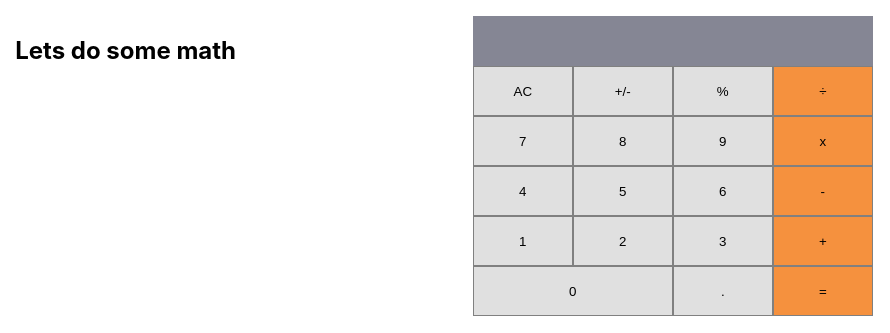
Test case: should get 6  for (1+2)*2
Click the button "1".
click(523, 241)  # box [473,216,573,266]
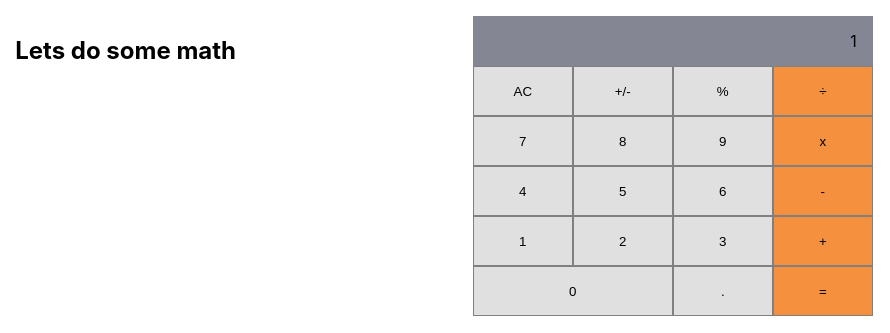
Click the button "+".
click(823, 241)  # box [773,216,873,266]
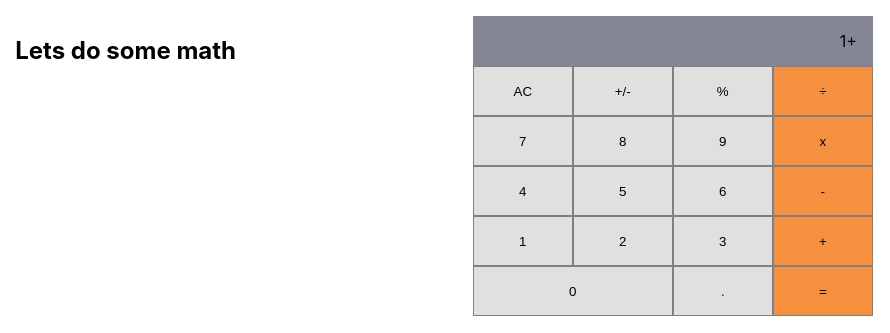
Click the button "2".
click(623, 241)  # box [573,216,673,266]
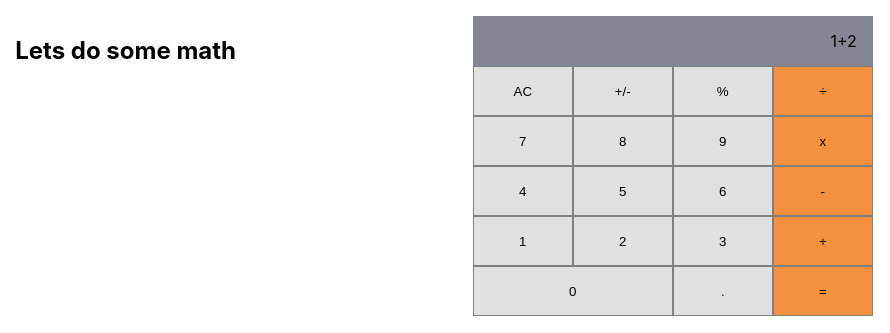
Click the button "x".
click(823, 141)  # box [773,116,873,166]
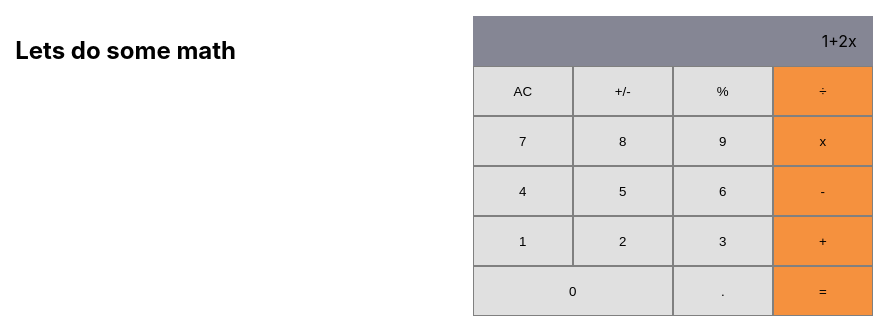
Click the button "2".
click(623, 241)  # box [573,216,673,266]
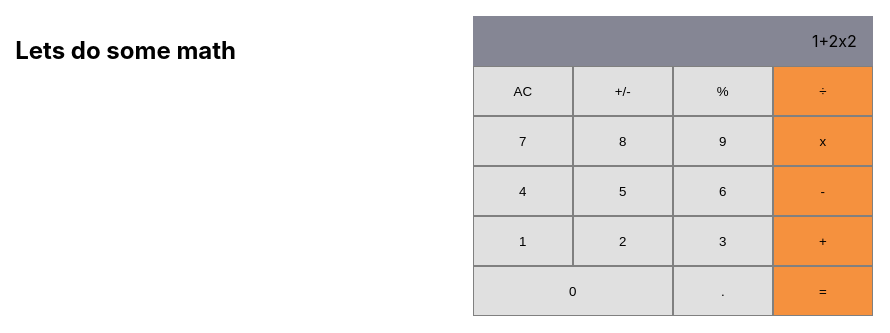
Click the button "=".
click(823, 291)  # box [773,266,873,316]
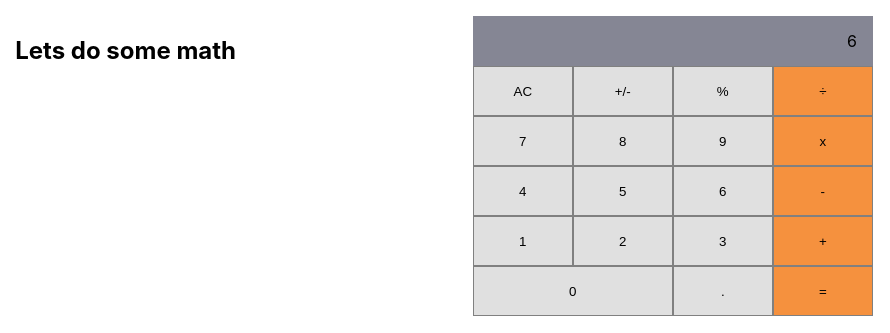
Expected: the text with test id "display" reads "6", [847,31,857,51]
